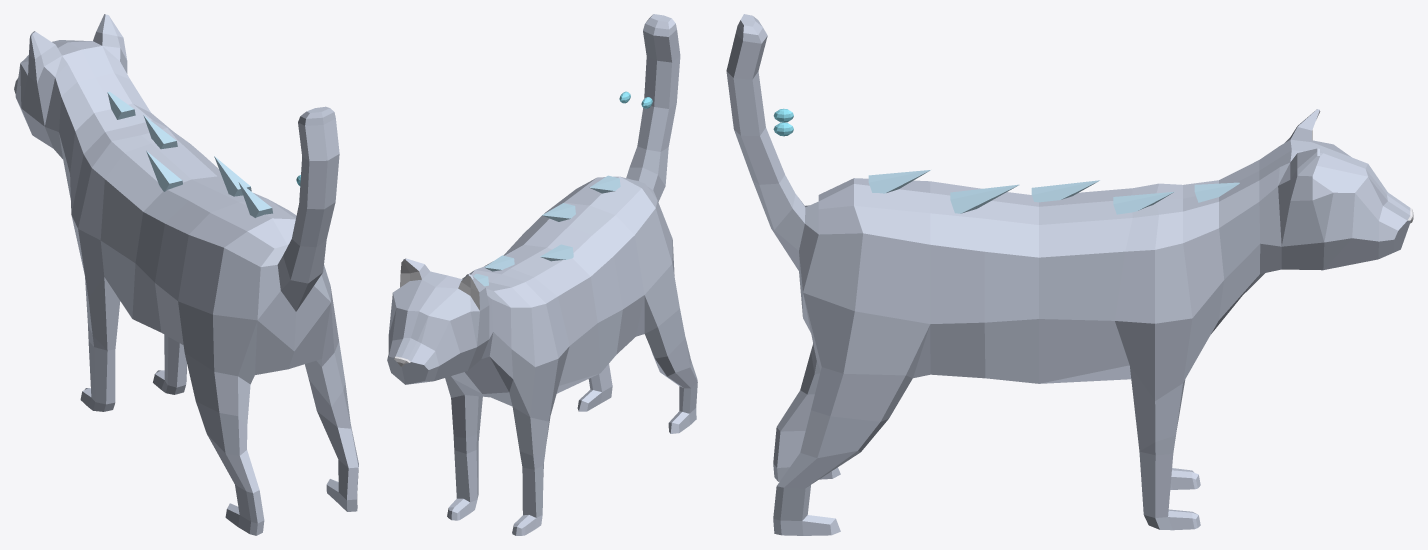
The model's file is SkyLynx.fbx.
3 views of the same model, side by side, from view 1: azimuth 30°, elevation 25°; view 2: azimuth 150°, elevation 25°; view 3: azimuth 270°, elevation 25° (orthographic). The views are drawn at different scales.
Visible parts, largest first — view 1: Body, Head, LegFL, Tail1, LegBL, LegFR, Glow_c8ebff, LegBR; view 2: Body, Tail1, LegBL, Head, LegFL, LegBR, Glow_c8ebff, LegFR; view 3: Body, LegFR, Tail1, LegBR, Head, Glow_c8ebff, LegFL.
Boxes of the visible parts, x1,y1,x2,y2 form: Body: [59, 73, 330, 374]; Head: [224, 106, 339, 351]; LegFL: [178, 301, 264, 535]; Tail1: [14, 14, 132, 158]; LegBL: [71, 154, 120, 411]; LegFR: [305, 287, 358, 511]; Glow_c8ebff: [107, 91, 272, 217]; LegBR: [153, 334, 186, 394]; Body: [451, 176, 672, 393]; Tail1: [387, 258, 493, 384]; LegBL: [483, 304, 569, 535]; Head: [620, 14, 680, 207]; LegFL: [636, 240, 697, 433]; LegBR: [445, 376, 489, 520]; Glow_c8ebff: [473, 175, 620, 286]; LegFR: [577, 364, 612, 411]; Body: [803, 178, 1264, 383]; LegFR: [773, 293, 930, 535]; Tail1: [1219, 109, 1413, 273]; LegBR: [1115, 243, 1223, 530]; Head: [726, 14, 862, 316]; Glow_c8ebff: [868, 170, 1239, 214]; LegFL: [773, 343, 840, 481].
Size of the model in its own units: 1.41 by 4.37 by 5.6.
3 materials, 1 textured.
